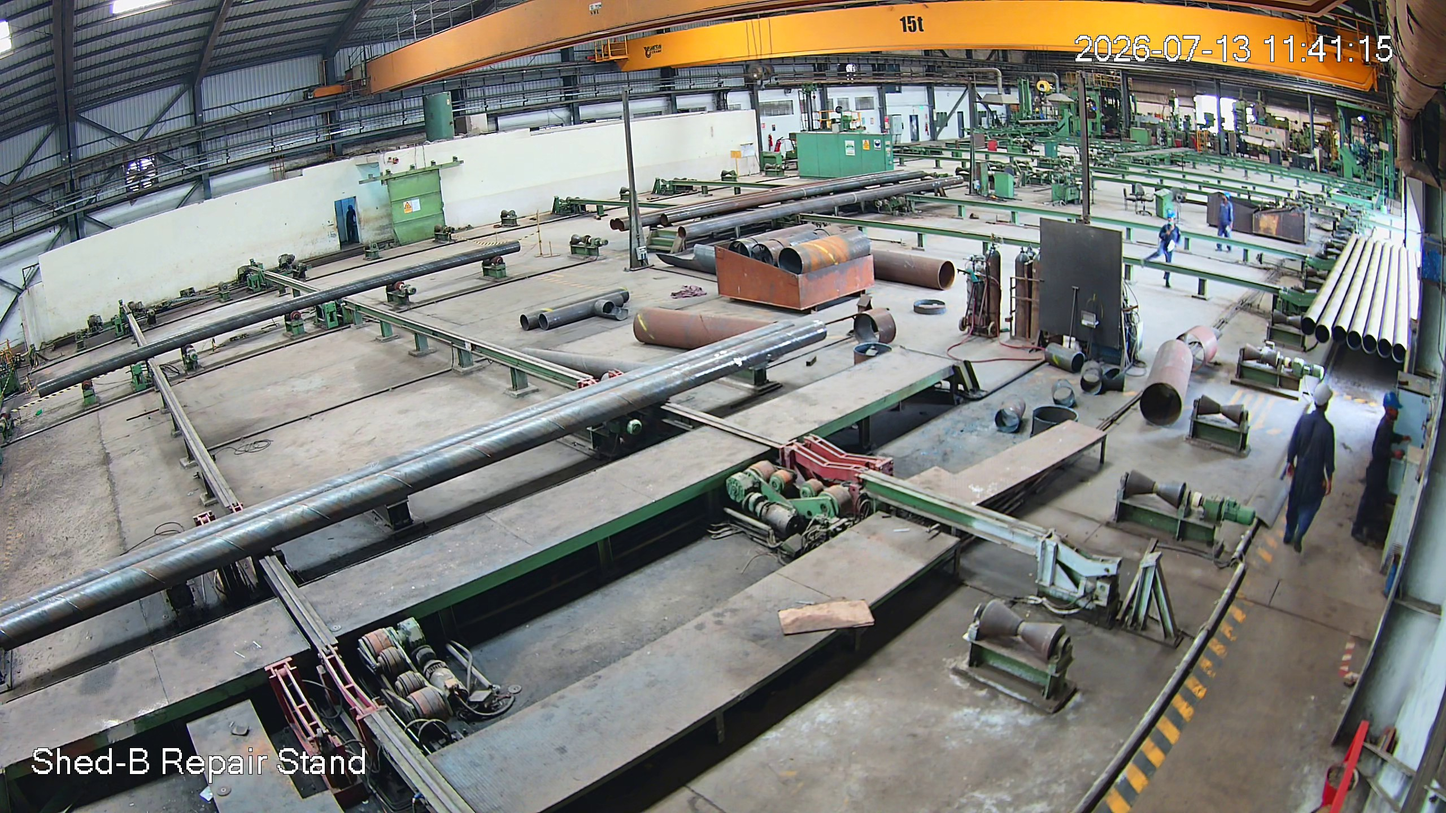Helmet: (1381, 390, 1408, 426), (1310, 383, 1338, 415)
Person: (1280, 386, 1341, 552), (1353, 393, 1408, 549)
